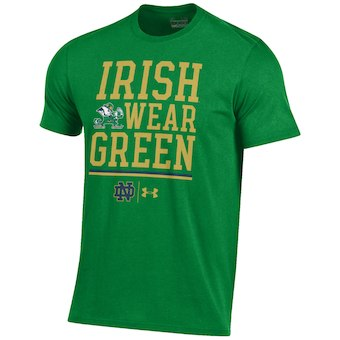T-Shirt: (35, 2, 305, 337)
